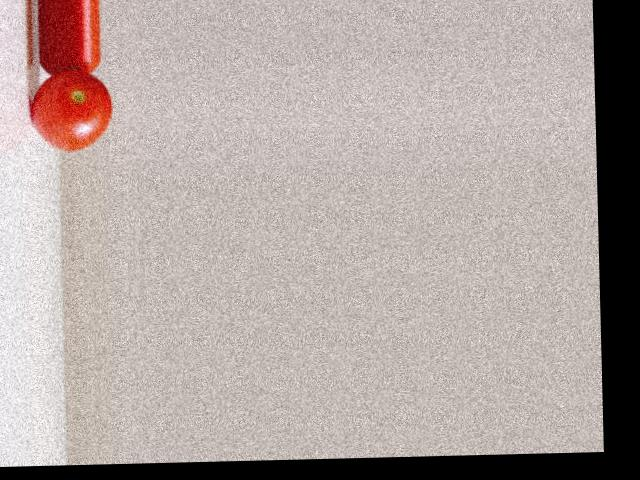tomato: (31, 69, 113, 151)
